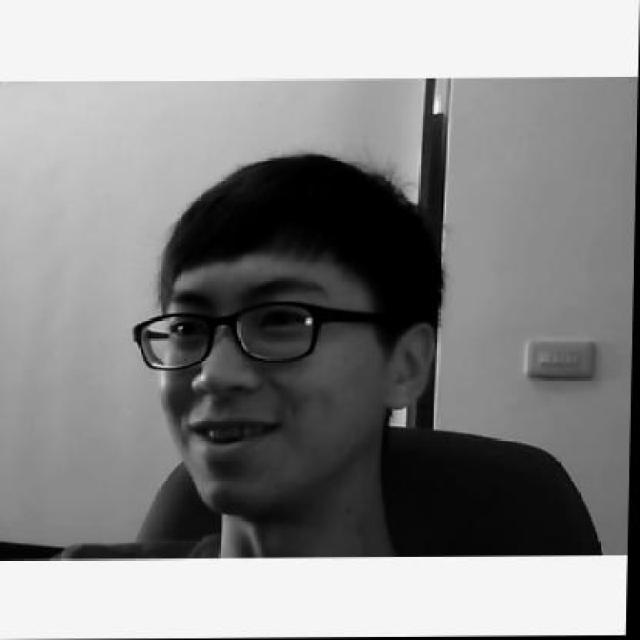attentif: (128, 154, 438, 517)
